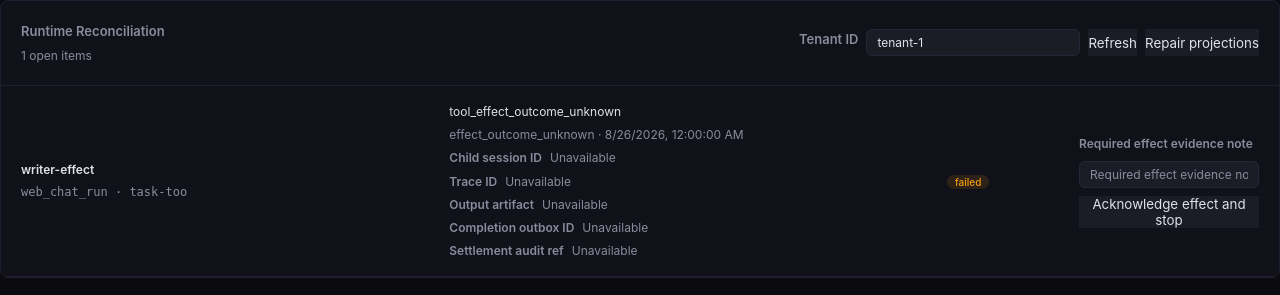
AdminRuntimeReconciliationSection — projection repair (mounted) › requires an evidence note and exposes only acknowledgement for an unresolved tool effect
The image size is (1280, 295).
Expected: the button with aria-label "Acknowledge effect and stop — writer-effect" is disabled, left=1079, top=196, right=1259, bottom=228
Type "Verified the synthetic file; retain it and do not replay." into the field with placeholder "Required effect evidence note" at {"x": 1169, "y": 175}, box left=1079, top=161, right=1259, bottom=188
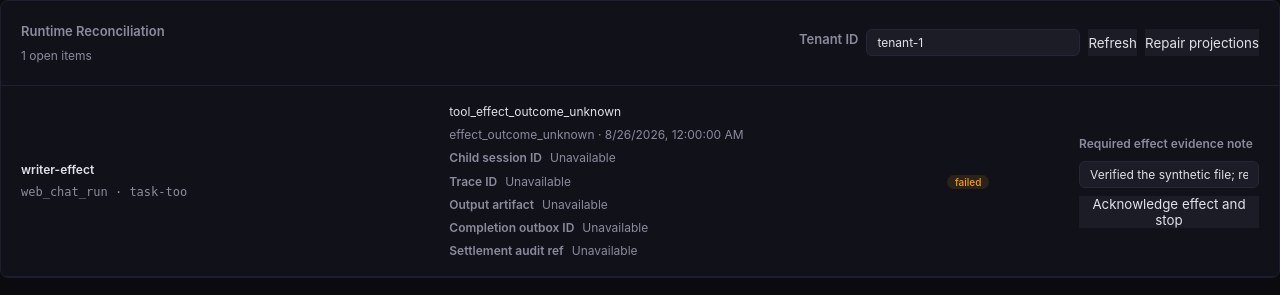
Click the button with aria-label "Acknowledge effect and stop — writer-effect" at {"x": 1169, "y": 212}, box left=1079, top=196, right=1259, bottom=228
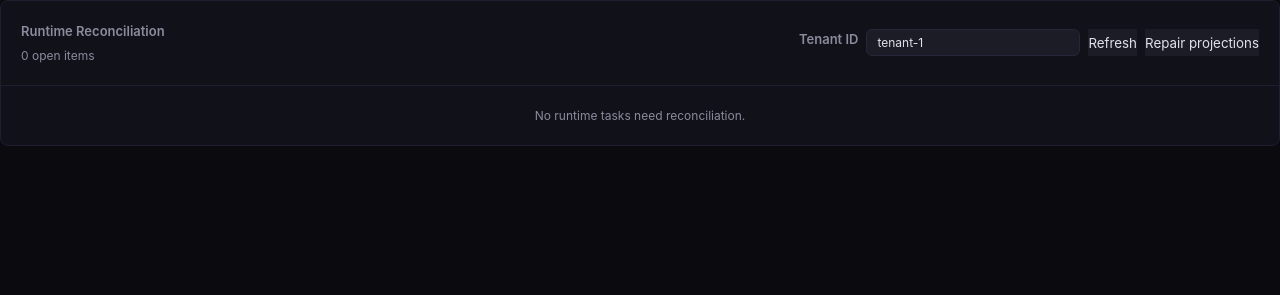
Expected: the text "0 open items" is shown, left=21, top=48, right=94, bottom=63
